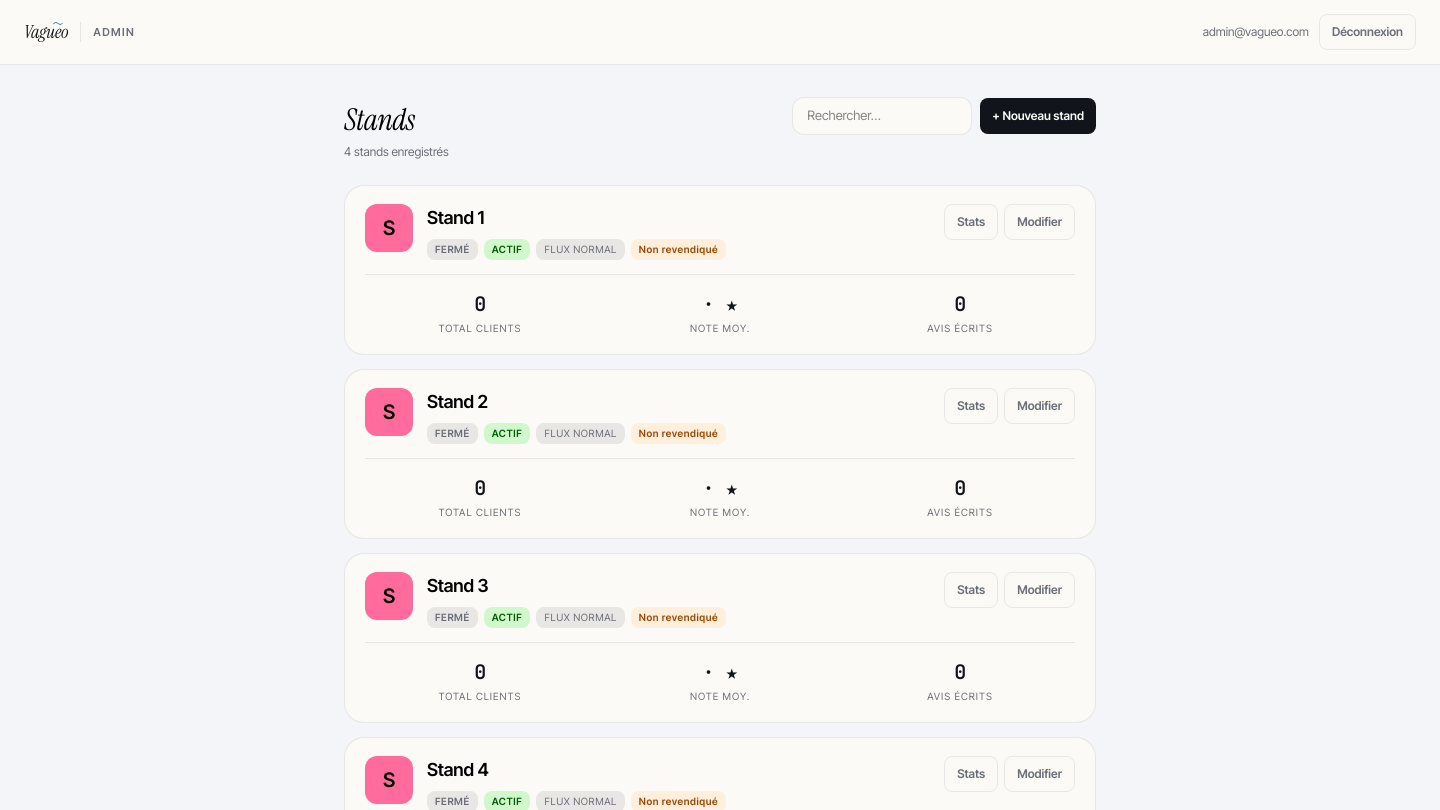
AdminApp › shows "Aucun résultat" when search has no match
This screenshot has width=1440, height=810.
Type "zzznomatch" into the field with placeholder "Rechercher…".
click(882, 116); type("zzznomatch")  # box [792,97,972,134]
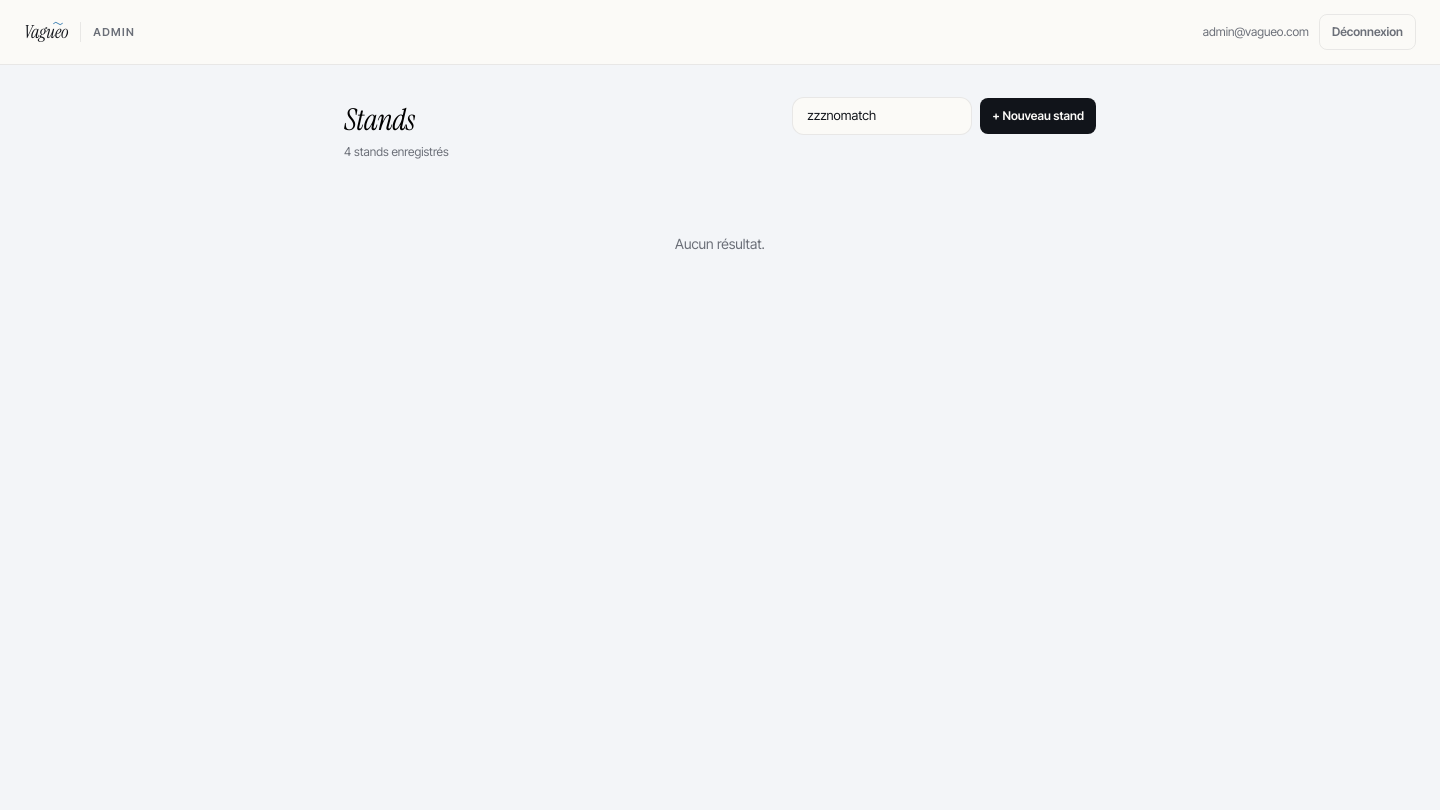
Check: the text "Aucun résultat." is shown, box [675,235,765,252]
